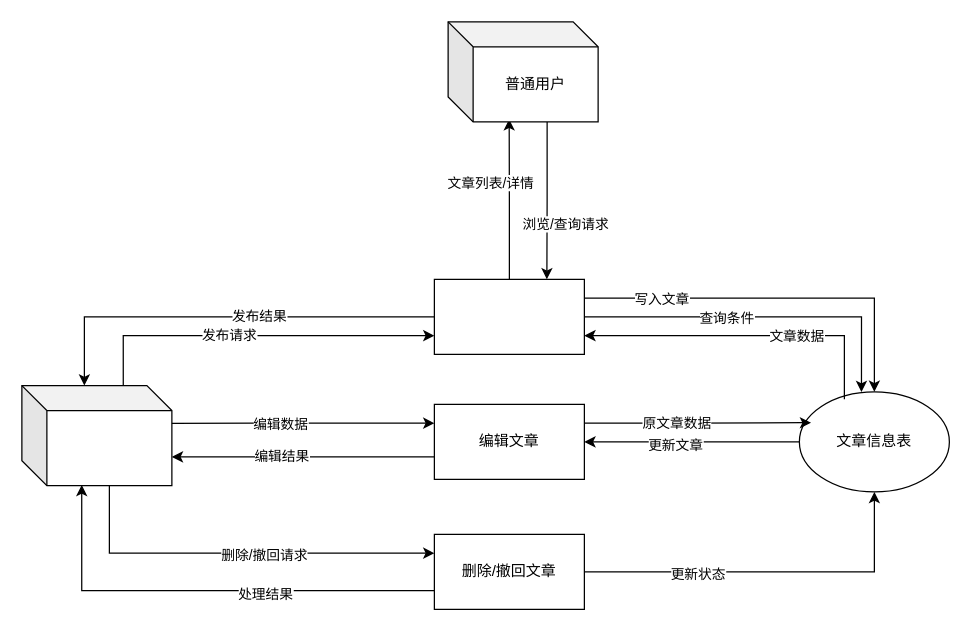
The diagram is 971 pixels wide and 631 high, and some of its shapes have lost their labels. The centre of each missing label's shape, as x and y in pixels:
发布文章: the point at 508,316
系统管理员: the point at 96,435
